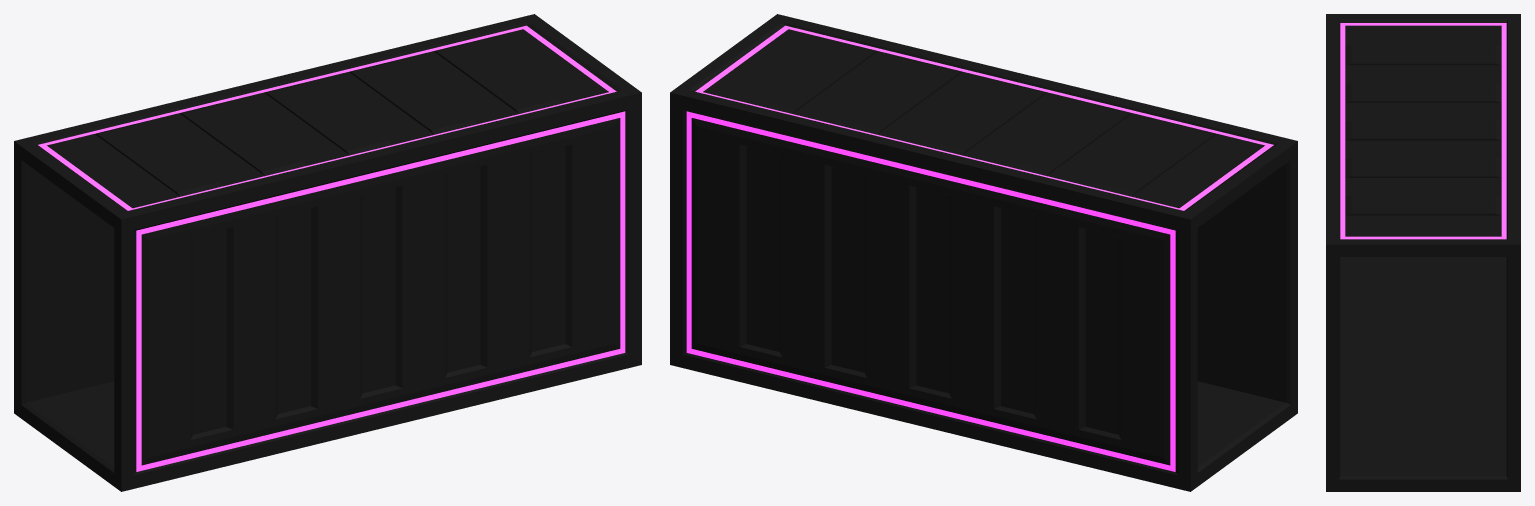
Rendered from Open_Container.fbx.
The picture shows the model from 3 angles, left to right: view 1: azimuth 30°, elevation 25°; view 2: azimuth 150°, elevation 25°; view 3: azimuth 270°, elevation 25°; orthographic projection. The views are drawn at different scales.
Parts seen in each view (by area): view 1: Container.001; view 2: Container.001; view 3: Container.001.
Boxes of the visible parts, bbox=[...] form: Container.001: bbox=[14, 14, 641, 491]; Container.001: bbox=[670, 14, 1297, 491]; Container.001: bbox=[1326, 14, 1520, 491].
Size of the model in its own units: 710 by 355 by 254.
